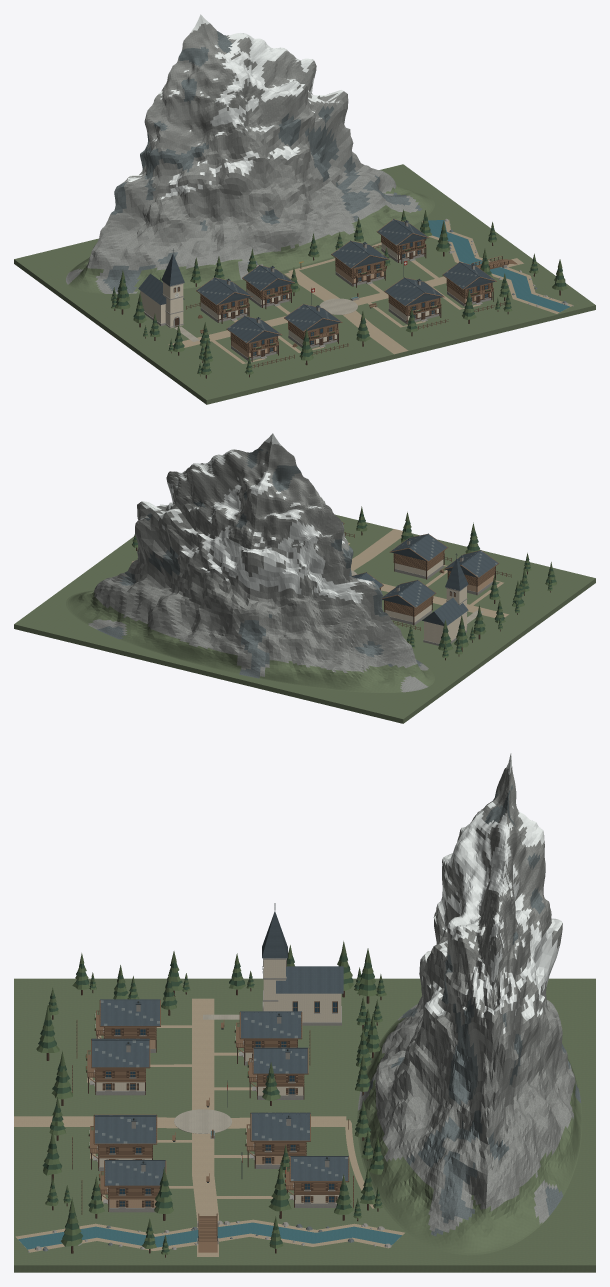
File: CH_Alps.fbx
The picture shows the model from 3 angles, top to bottom: view 1: azimuth 30°, elevation 25°; view 2: azimuth 150°, elevation 25°; view 3: azimuth 270°, elevation 25°; orthographic projection. The views are drawn at different scales.
Parts seen in each view (by area): view 1: SW_Mountain, CH_Alps_Ground, SW_RoofSlates, SW_Firs_Needles, SW_Lanes, SW_LogBoards, SW_Roofs, SW_Water, SW_RoofEdges, SW_ChaletWalls, SW_Foundations, SW_Church (+7 smaller); view 2: SW_Mountain, CH_Alps_Ground, SW_Firs_Needles, SW_RoofSlates, SW_Lanes, SW_LogBoards, SW_Roofs, SW_Church, SW_ChaletWalls, SW_RoofEdges, SW_Foundations, SW_ChurchSpire; view 3: CH_Alps_Ground, SW_Mountain, SW_RoofSlates, SW_Firs_Needles, SW_Lanes, SW_LogBoards, SW_Water, SW_Roofs, SW_RoofEdges, SW_Church, SW_RiverBanks, SW_ChaletWalls (+7 smaller).
Boxes of the visible parts, left/top/right/bottom form: SW_Mountain: left=66, top=14, right=434, bottom=293; CH_Alps_Ground: left=14, top=164, right=595, bottom=404; SW_RoofSlates: left=197, top=219, right=495, bottom=342; SW_Firs_Needles: left=111, top=209, right=567, bottom=374; SW_Lanes: left=168, top=258, right=523, bottom=363; SW_LogBoards: left=200, top=235, right=492, bottom=351; SW_Roofs: left=138, top=222, right=494, bottom=342; SW_Water: left=352, top=220, right=569, bottom=312; SW_RoofEdges: left=196, top=219, right=496, bottom=343; SW_ChaletWalls: left=201, top=243, right=491, bottom=357; SW_Foundations: left=144, top=248, right=491, bottom=360; SW_Church: left=140, top=282, right=183, bottom=328; SW_Mountain: left=66, top=433, right=434, bottom=692; CH_Alps_Ground: left=14, top=514, right=595, bottom=723; SW_Firs_Needles: left=132, top=506, right=556, bottom=657; SW_RoofSlates: left=342, top=522, right=498, bottom=607; SW_Lanes: left=348, top=529, right=508, bottom=623; SW_LogBoards: left=384, top=551, right=494, bottom=616; SW_Roofs: left=358, top=537, right=494, bottom=625; SW_Church: left=424, top=586, right=466, bottom=643; SW_ChaletWalls: left=385, top=559, right=494, bottom=622; SW_RoofEdges: left=341, top=521, right=499, bottom=608; SW_Foundations: left=390, top=565, right=492, bottom=645; SW_ChurchSpire: left=445, top=558, right=468, bottom=590; CH_Alps_Ground: left=14, top=978, right=595, bottom=1272; SW_Mountain: left=357, top=753, right=582, bottom=1255; SW_RoofSlates: left=92, top=1000, right=348, bottom=1185; SW_Firs_Needles: left=36, top=941, right=386, bottom=1254; SW_Lanes: left=14, top=998, right=346, bottom=1256; SW_LogBoards: left=95, top=1027, right=341, bottom=1199; SW_Water: left=18, top=1131, right=401, bottom=1249; SW_Roofs: left=98, top=966, right=345, bottom=1184; SW_RoofEdges: left=91, top=999, right=349, bottom=1186; SW_Church: left=263, top=959, right=341, bottom=1022; SW_RiverBanks: left=15, top=1219, right=404, bottom=1252; SW_ChaletWalls: left=96, top=1040, right=339, bottom=1207.
Bounding box in the file's own units: 140 × 79.6 × 120.
Materials: 21 (21 with a texture image).
